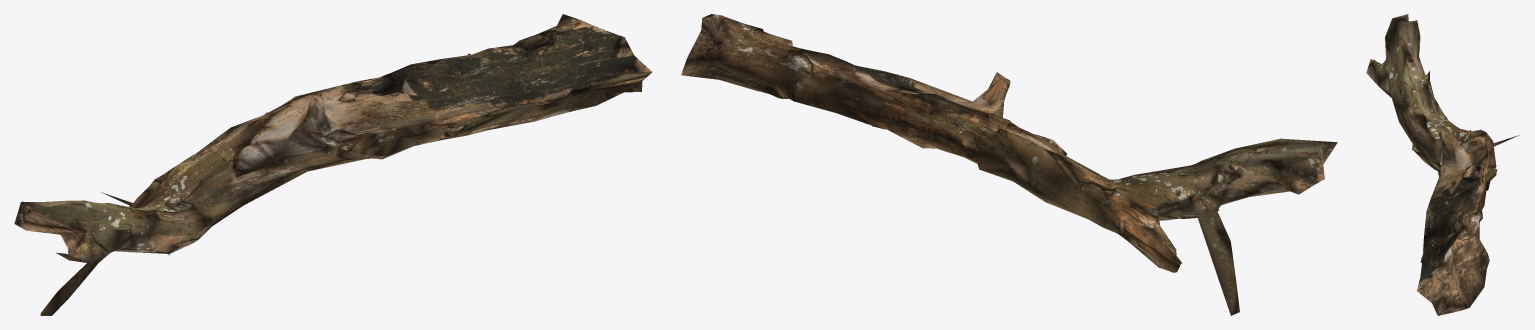
Rendered from dead_tree_trunk_02.glb.
The picture shows the model from 3 angles, left to right: view 1: azimuth 30°, elevation 25°; view 2: azimuth 150°, elevation 25°; view 3: azimuth 270°, elevation 25°; orthographic projection. The views are drawn at different scales.
Parts seen in each view (by area): view 1: dead_tree_trunk_02; view 2: dead_tree_trunk_02; view 3: dead_tree_trunk_02.
Part boxes in pixels (x1,y1,x2,y2): dead_tree_trunk_02: [14, 14, 652, 315]; dead_tree_trunk_02: [681, 14, 1337, 315]; dead_tree_trunk_02: [1366, 14, 1519, 315].
Size of the model in its own units: 4.03 by 1.04 by 1.04.
1 material, 1 textured.
